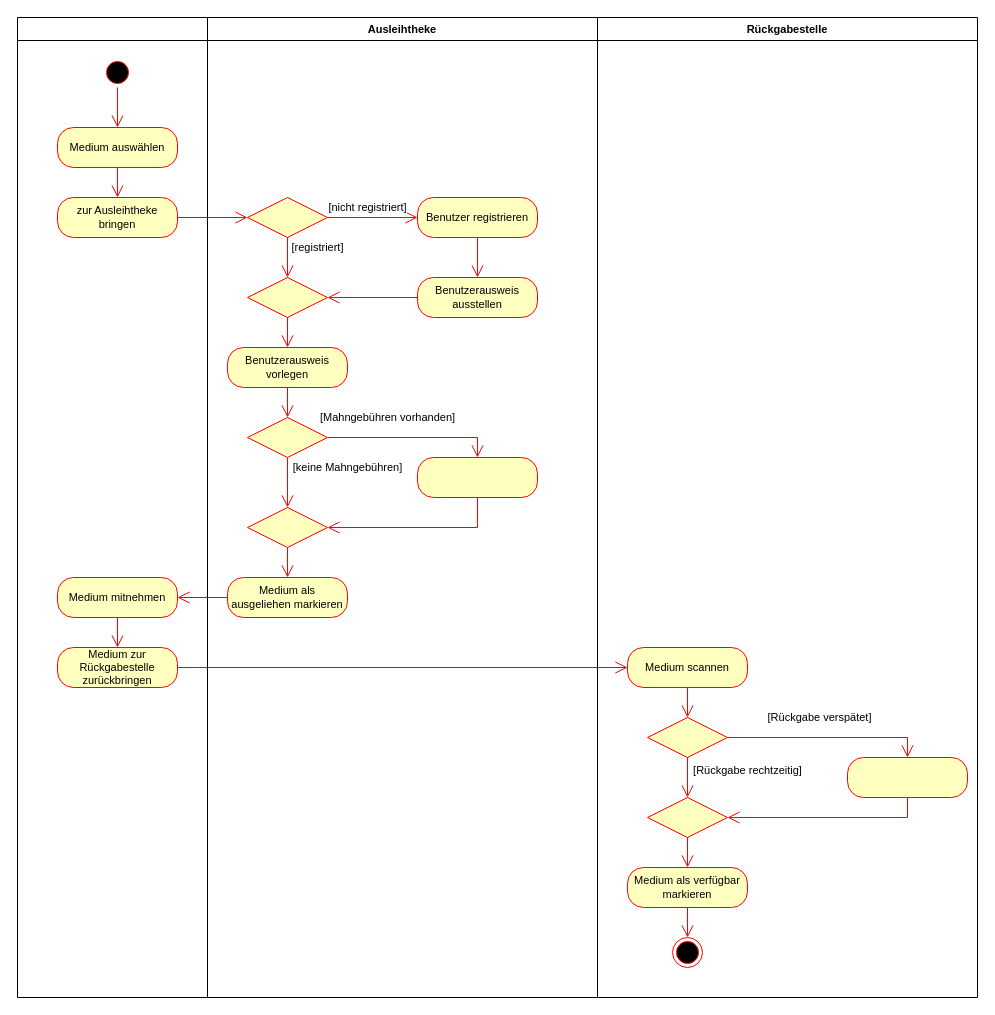
Some shapes in this 995 by 1015 pixel diagram are drawn without their labels. Each missing label, with the centre of its shape:
"Benutzer" belongs at point 112,507.
"Mahngebühren begleichen" belongs at point 477,477.
"Mahngebühren zufügen" belongs at point 907,777.
